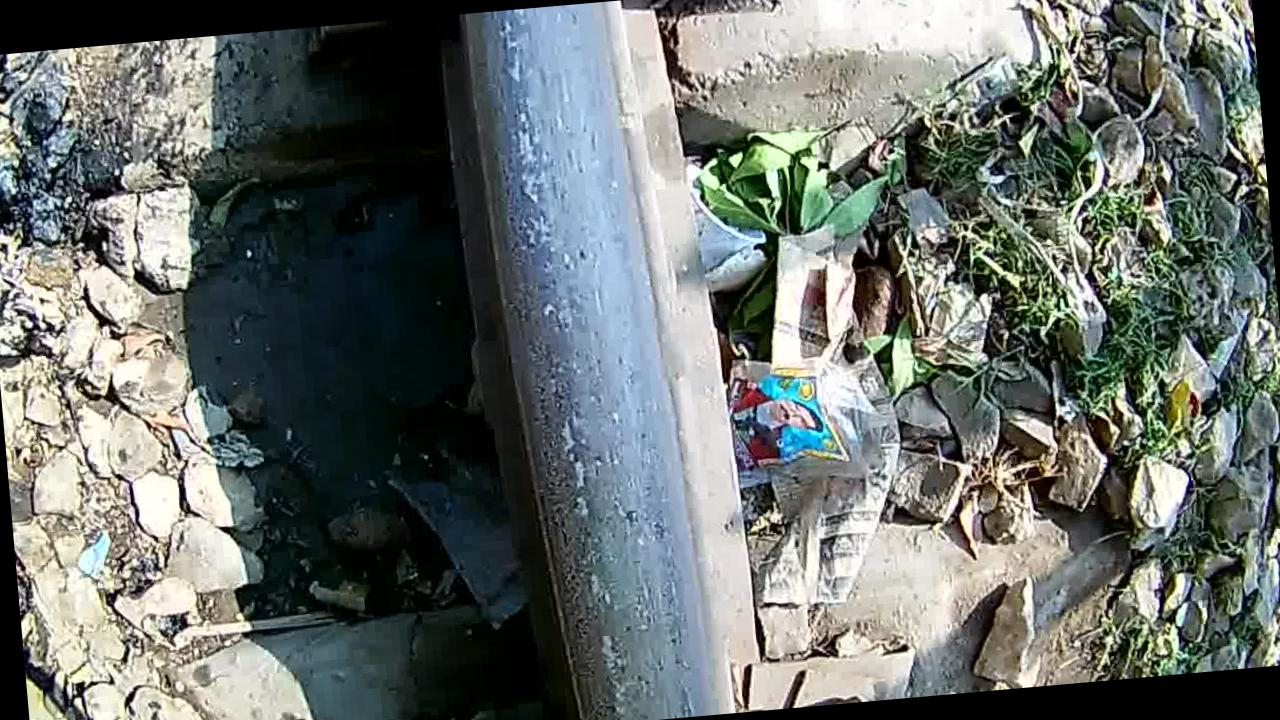clip_missing: (462, 0, 701, 720)
